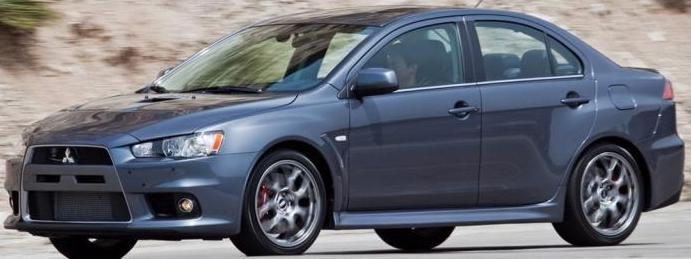front_view: (14, 130, 249, 259)
headlight: (120, 130, 246, 168)
side_glass: (338, 23, 587, 87)
